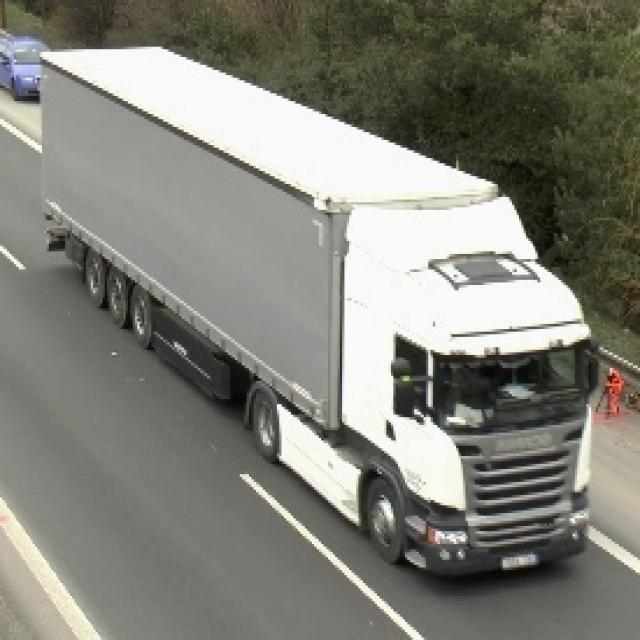TRUCK: (42, 40, 603, 590)
